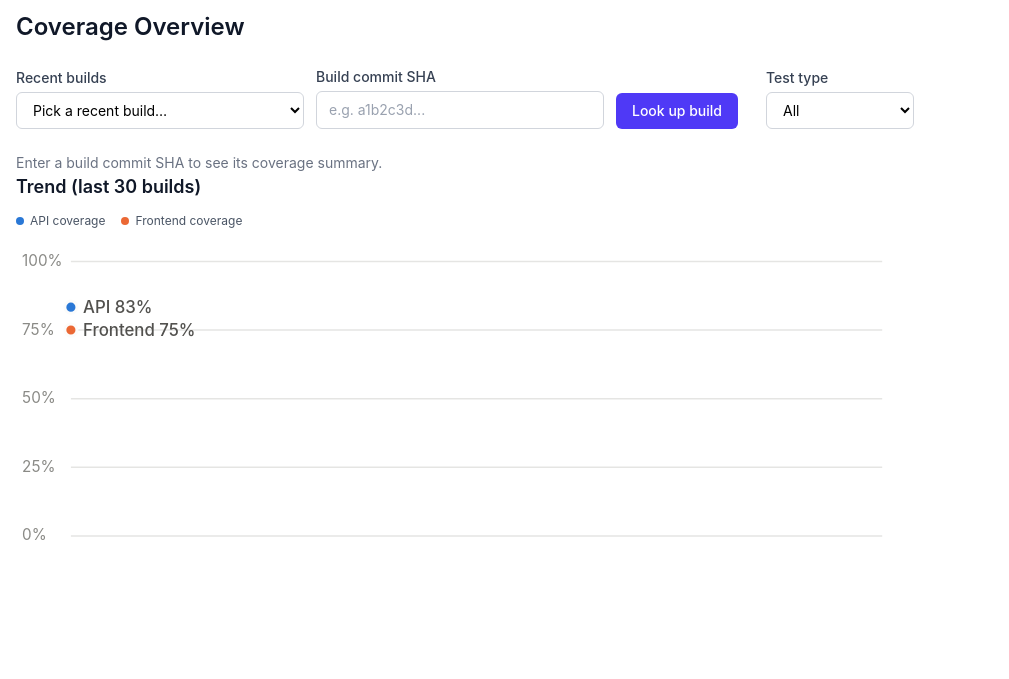
it: OverviewPage › switches the test-type stat tile when the filter changes
In the field with test id "commit-sha-input": (460, 110) top-left (316, 91), bottom-right (604, 129), type "abc123"
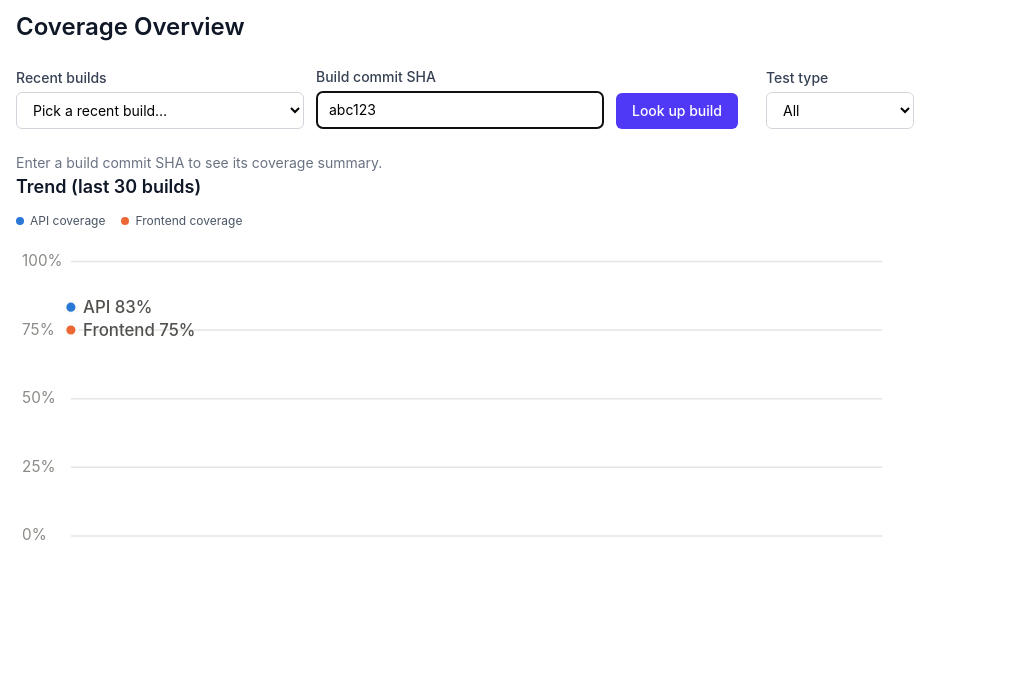
Click the button with test id "commit-sha-submit-button": (677, 111) top-left (616, 93), bottom-right (738, 129)
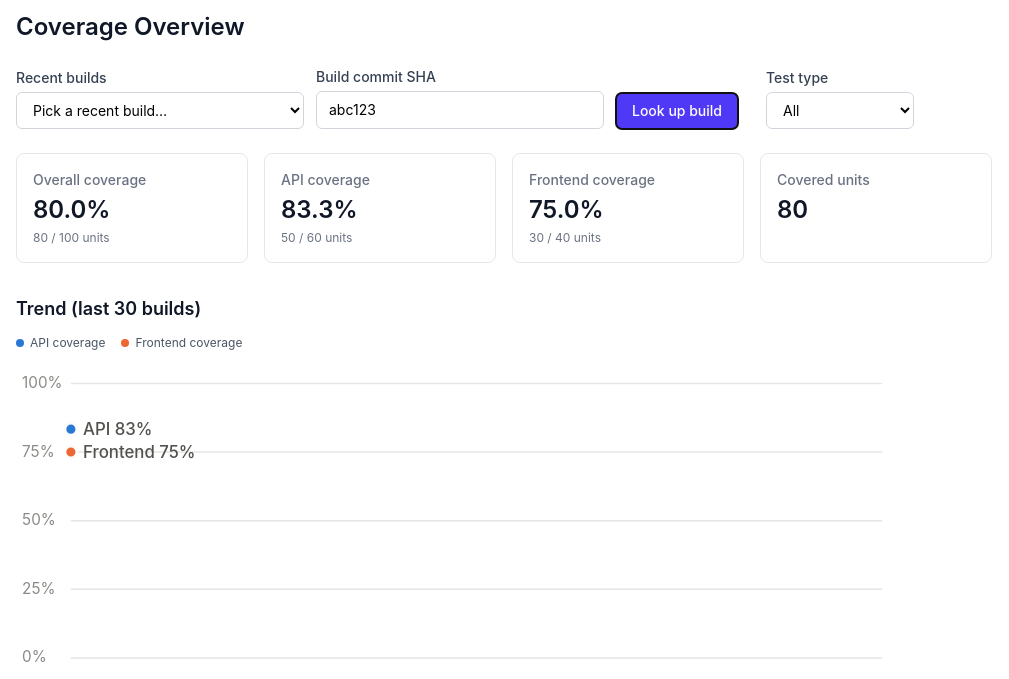
expect the element with test id "summary-stat-tiles" is shown: met, box top-left (16, 153), bottom-right (992, 263)
expect the element with test id "stat-tile-test-type" shows "80": met, box top-left (777, 195), bottom-right (808, 224)
Select "Automated E2E" in the dropdown with test id "test-type-filter-select": (840, 110) top-left (766, 92), bottom-right (914, 129)
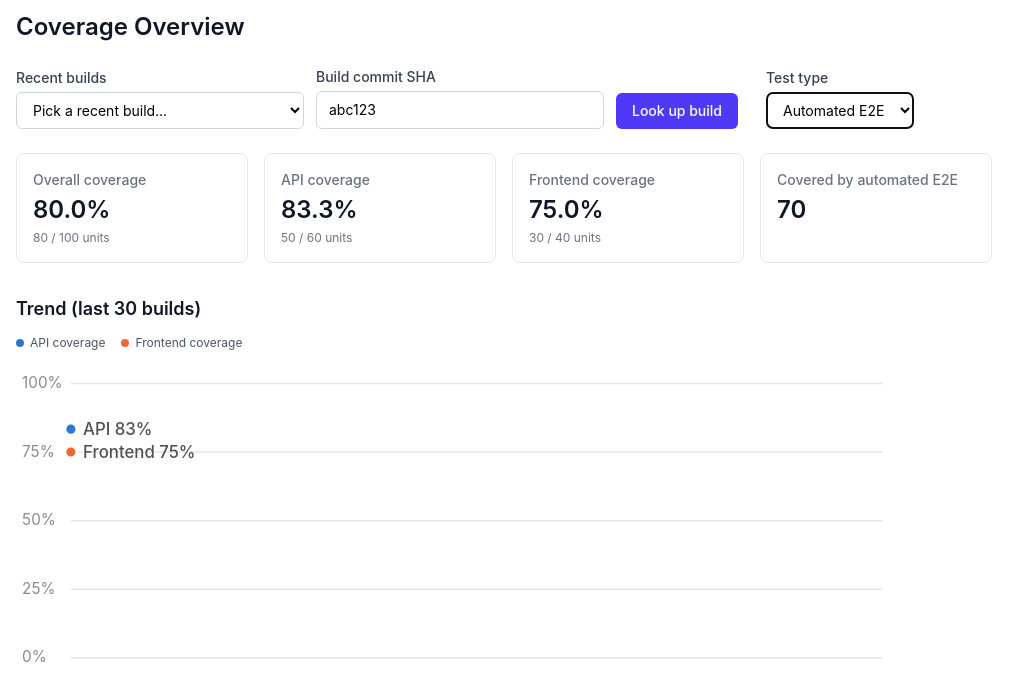
expect the element with test id "stat-tile-test-type" shows "70": met, box top-left (777, 195), bottom-right (806, 224)
Select "Manual" in the dropdown with test id "test-type-filter-select": (840, 110) top-left (766, 92), bottom-right (914, 129)
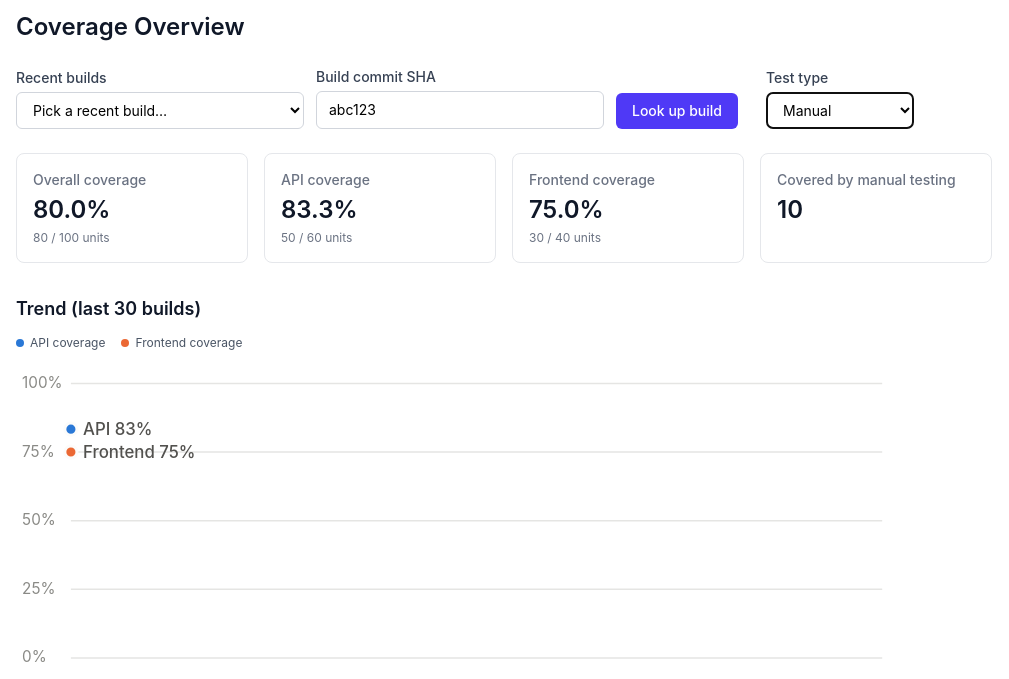
expect the element with test id "stat-tile-test-type" shows "10": met, box top-left (777, 195), bottom-right (803, 224)
